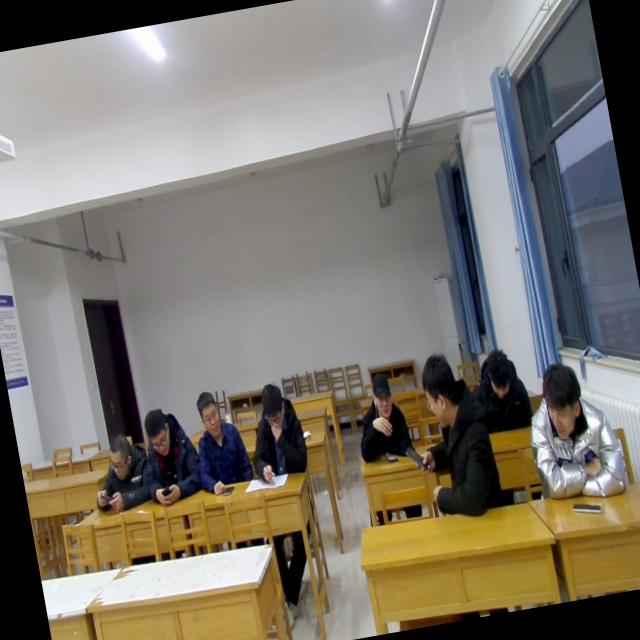bow: (518, 352, 632, 509), (84, 427, 156, 515)
down: (534, 358, 590, 445), (479, 344, 518, 402), (140, 402, 176, 464), (254, 378, 287, 434), (103, 428, 135, 482)
lookup: (190, 384, 223, 438), (364, 371, 397, 419)
sit: (399, 347, 505, 522), (348, 371, 426, 524), (128, 402, 207, 512), (240, 378, 314, 486), (184, 384, 256, 493), (466, 342, 536, 436)
